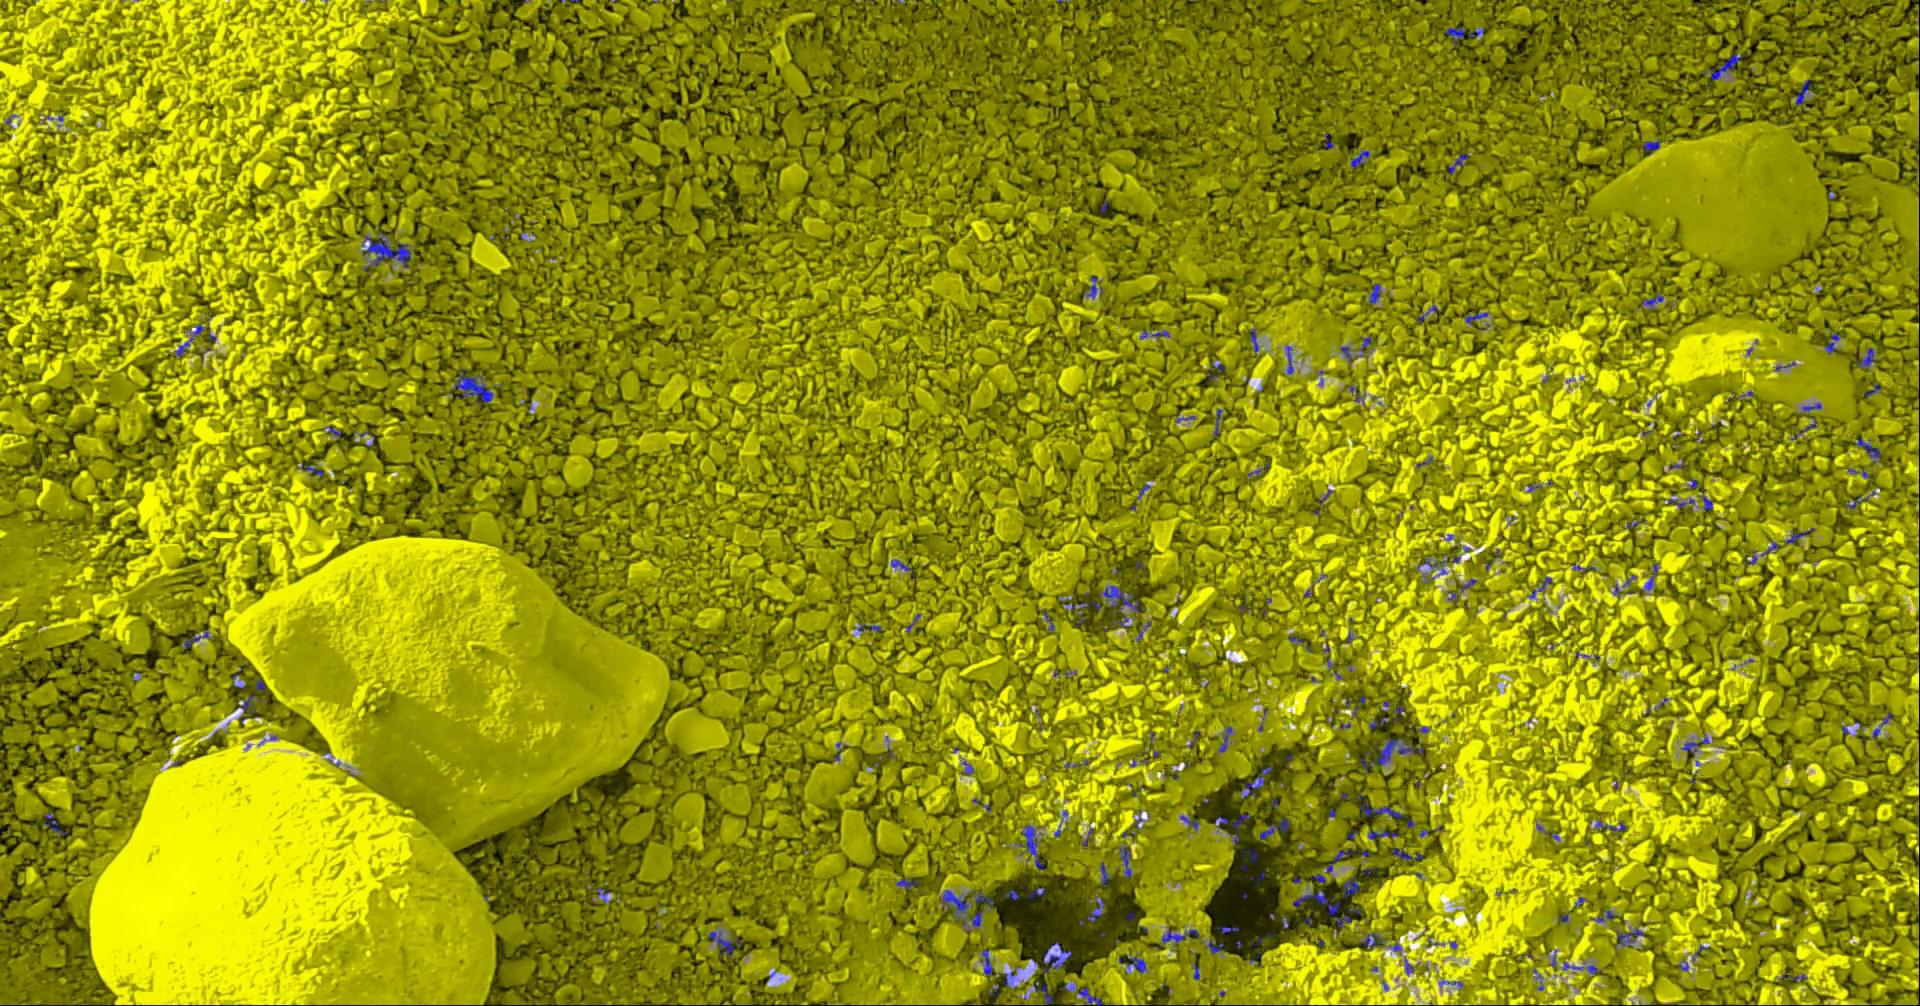ant: (1291, 890, 1351, 934), (1359, 737, 1423, 771), (361, 232, 410, 271), (941, 889, 982, 927), (451, 368, 491, 404), (1098, 586, 1145, 614), (1015, 824, 1044, 869), (1703, 53, 1740, 85), (1357, 793, 1403, 818), (1326, 848, 1368, 873), (1241, 765, 1271, 798), (709, 927, 740, 958), (175, 324, 203, 356), (1064, 982, 1102, 1005), (1043, 941, 1070, 972), (1444, 25, 1483, 44), (1258, 817, 1289, 840), (1418, 553, 1448, 575), (236, 694, 265, 716), (1680, 733, 1709, 754), (1854, 438, 1879, 462), (1789, 417, 1816, 439), (1870, 711, 1893, 738), (1615, 927, 1644, 946), (1526, 575, 1550, 598), (43, 812, 66, 836), (1059, 594, 1098, 608), (1161, 929, 1199, 942), (1663, 493, 1694, 509), (1562, 962, 1601, 974), (1611, 574, 1636, 594), (1032, 981, 1051, 1005), (1086, 895, 1103, 921), (1641, 563, 1657, 589), (1855, 347, 1876, 368), (1083, 276, 1102, 298), (969, 889, 994, 906), (1361, 932, 1387, 949), (1794, 79, 1810, 105), (1390, 847, 1422, 860), (1448, 152, 1467, 173), (183, 631, 208, 647), (1119, 846, 1131, 876), (1594, 819, 1625, 831), (1823, 333, 1840, 354), (1139, 326, 1170, 338), (1350, 150, 1369, 168), (1217, 727, 1230, 751), (1642, 293, 1663, 309), (1343, 875, 1359, 897), (297, 462, 323, 475), (1230, 812, 1250, 828), (1126, 955, 1145, 972), (1590, 909, 1614, 922), (980, 949, 992, 976), (1368, 829, 1397, 840), (1356, 337, 1371, 356), (1211, 408, 1222, 436), (897, 876, 918, 889), (1642, 138, 1658, 155), (1368, 283, 1380, 304), (1846, 495, 1867, 508), (1098, 861, 1109, 887), (1241, 847, 1257, 862), (1180, 815, 1197, 829), (1785, 531, 1807, 542), (1464, 312, 1487, 323), (1248, 328, 1258, 351), (1250, 870, 1265, 885), (1390, 704, 1404, 720), (1205, 940, 1223, 953), (890, 559, 909, 570), (1369, 716, 1388, 728), (1285, 345, 1293, 373), (1112, 615, 1129, 627), (1029, 887, 1045, 899), (1214, 815, 1228, 829), (1217, 926, 1239, 934), (1702, 495, 1712, 511)
